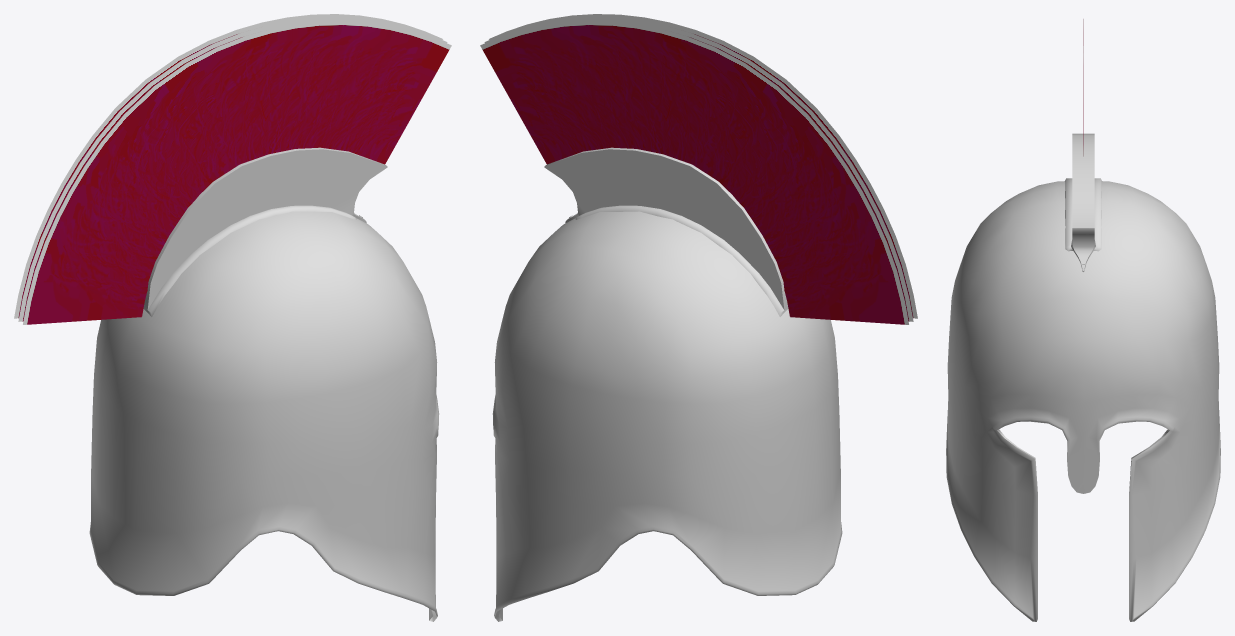
Rendered from OniMask.fbx.
3 views of the same model, side by side, from view 1: azimuth 30°, elevation 25°; view 2: azimuth 150°, elevation 25°; view 3: azimuth 270°, elevation 25° (orthographic). The views are drawn at different scales.
Visible parts, largest first — view 1: Plane.006; view 2: Plane.006; view 3: Plane.006.
Part boxes in pixels (box(x1,y1,x2,y2)): Plane.006: box(14, 14, 451, 621); Plane.006: box(480, 14, 917, 621); Plane.006: box(946, 19, 1220, 621).
Bounding box in the file's own units: 56.78 × 76.9 × 36.46.
Materials: 2 (1 with a texture image).
